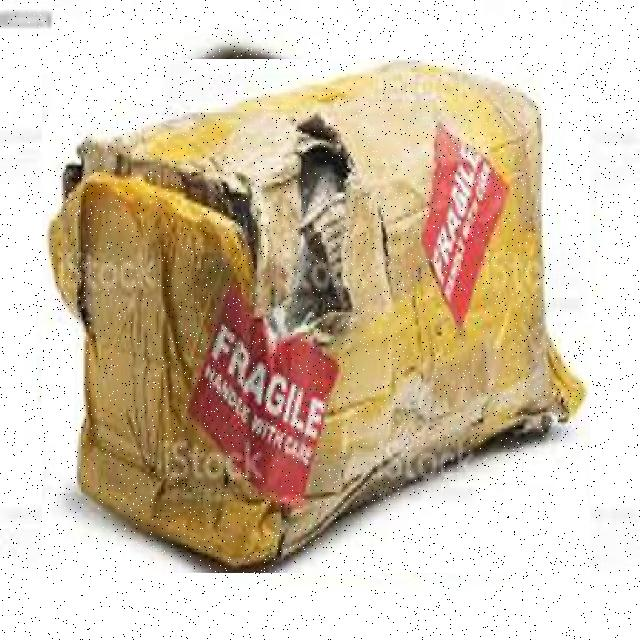defect: (42, 59, 590, 572)
